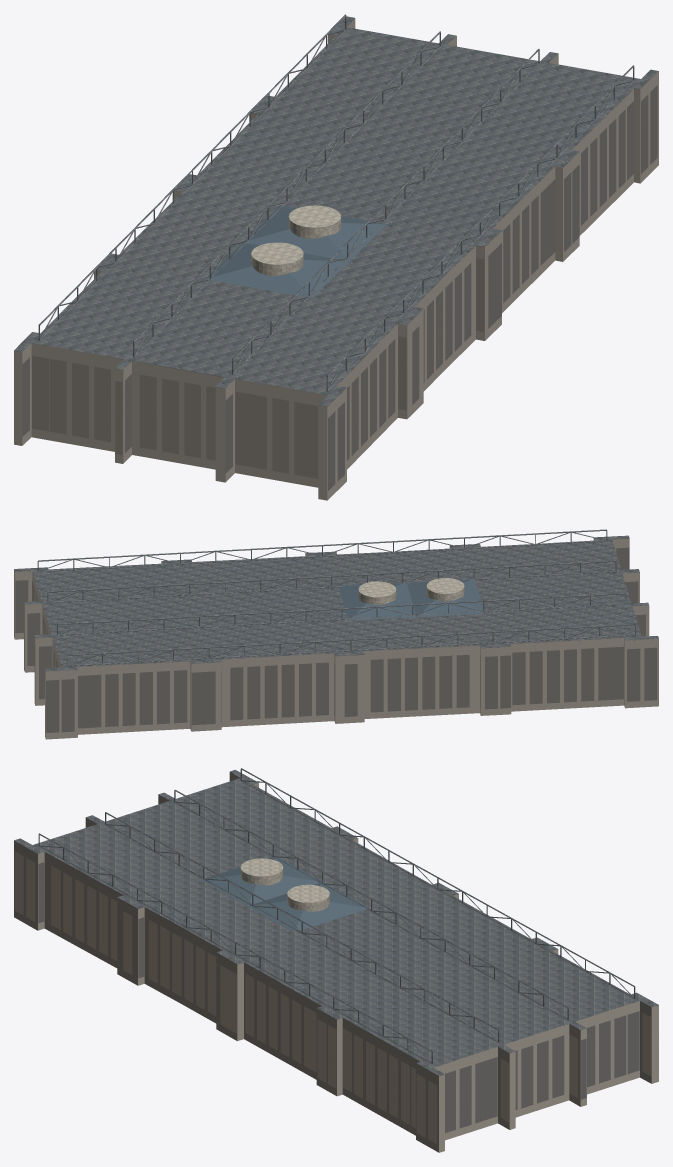
File: cite-des-sciences.glb
3 renders of one model, top to bottom at view 1: azimuth 30°, elevation 25°; view 2: azimuth 150°, elevation 25°; view 3: azimuth 270°, elevation 25°, orthographic. The views are drawn at different scales.
Visible parts, largest first — view 1: roof, window, stone, glass, trim; view 2: roof, window, stone, glass, trim; view 3: roof, window, stone, glass, trim.
Boxes of the visible parts, left/top/right/bottom form: roof: left=14, top=14, right=658, bottom=406; window: left=22, top=85, right=657, bottom=490; stone: left=14, top=18, right=658, bottom=500; glass: left=205, top=205, right=386, bottom=298; trim: left=251, top=205, right=341, bottom=275; roof: left=14, top=529, right=658, bottom=671; window: left=15, top=547, right=657, bottom=732; stone: left=14, top=538, right=658, bottom=739; glass: left=338, top=579, right=484, bottom=620; trim: left=358, top=578, right=464, bottom=604; roof: left=14, top=768, right=658, bottom=1075; window: left=14, top=851, right=651, bottom=1144; stone: left=14, top=772, right=658, bottom=1152; glass: left=201, top=856, right=367, bottom=932; trim: left=240, top=858, right=329, bottom=911.
Size of the model in its own units: 291 by 40 by 259.
Materials: 5 (5 with a texture image).
